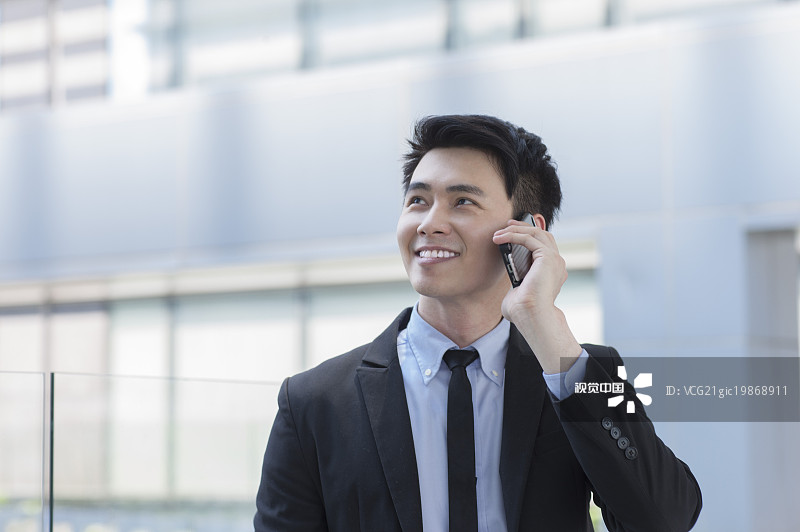calling: (481, 205, 609, 359)
